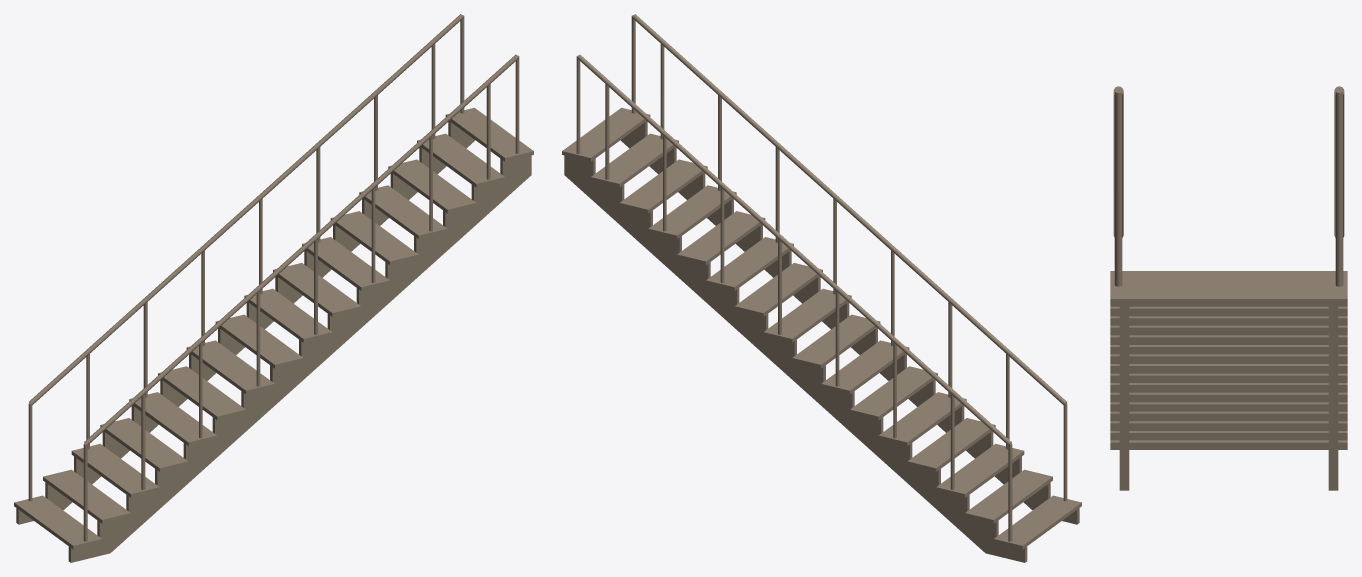
Rendered from stairs.glb.
3 views of the same model, side by side, from view 1: azimuth 30°, elevation 25°; view 2: azimuth 150°, elevation 25°; view 3: azimuth 270°, elevation 25° (orthographic). The views are drawn at different scales.
Visible parts, largest first — view 1: stairs; view 2: stairs; view 3: stairs.
Part boxes in pixels (x1,y1,x2,y2): stairs: (14,14,533,562); stairs: (562,14,1081,562); stairs: (1110,86,1347,490).
Size of the model in its own units: 4.48 by 3.72 by 0.9997.
